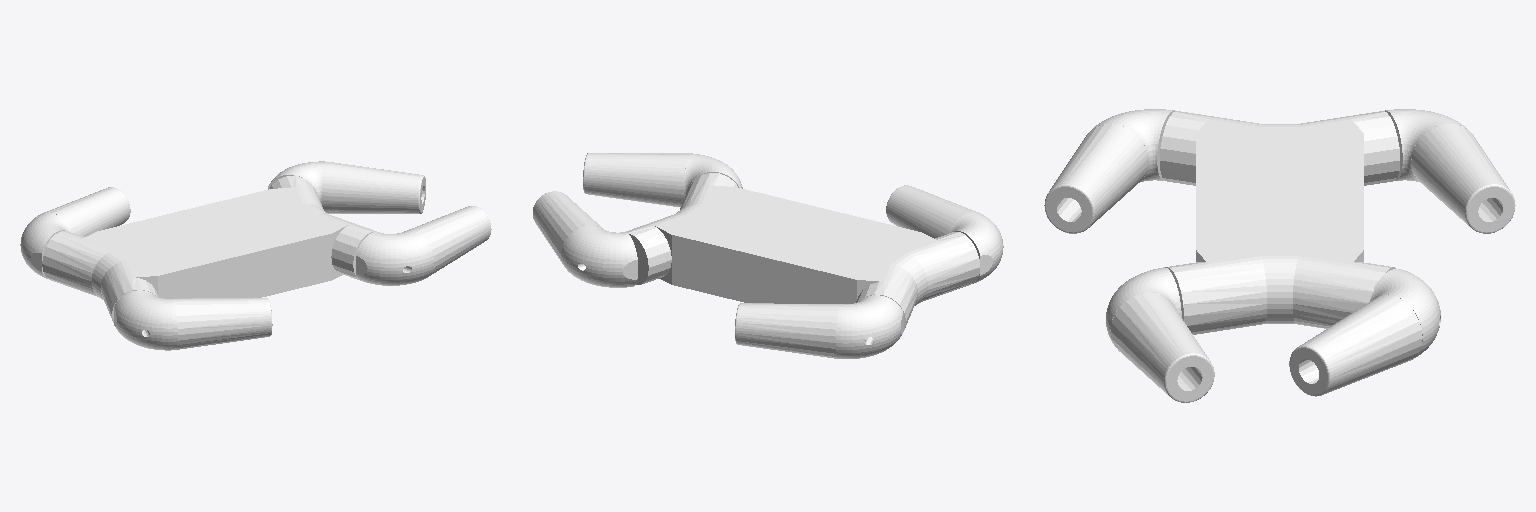
URDF robot description (20_degree):
<?xml version="1.0" encoding="utf-8"?>
<!-- This URDF was automatically created by SolidWorks to URDF Exporter! Originally created by [author] ([email redacted]) 
     Commit Version: 1.5.1-0-g916b5db  Build Version: 1.5.7152.31018
     For more information, please see http://wiki.ros.org/sw_urdf_exporter -->
<robot
  name="20_degree">
  <link
    name="base_link">
    <inertial>
      <origin
        xyz="0 4.343E-08 1.1094E-08"
        rpy="0 0 0" />
      <mass
        value="2.942" />
      <inertia
        ixx="0.0097782"
        ixy="1.2602E-07"
        ixz="-1.5417E-10"
        iyy="0.0454356"
        iyz="-3.0422E-18"
        izz="0.0528029" />
    </inertial>
    <visual>
      <origin
        xyz="0 0 0"
        rpy="0 0 0" />
      <geometry>
        <mesh
          filename="package://20_degree/meshes/base_link.STL" />
      </geometry>
      <material
        name="">
        <color
          rgba="1 1 1 1" />
      </material>
    </visual>
    <collision>
      <origin
        xyz="0 0 0"
        rpy="0 0 0" />
      <geometry>
        <mesh
          filename="package://20_degree/meshes/base_link.STL" />
      </geometry>
    </collision>
  </link>
  <link
    name="left_front_link">
    <inertial>
      <origin
        xyz="-9.7736E-08 0.056833 -0.03601"
        rpy="0 0 0" />
      <mass
        value="0.092" />
      <inertia
        ixx="0.0002604"
        ixy="7.0572E-10"
        ixz="7.1607E-10"
        iyy="0.0000526"
        iyz="2.27E-05"
        izz="0.0002575" />
    </inertial>
    <visual>
      <origin
        xyz="0 0 0"
        rpy="0 0 0" />
      <geometry>
        <mesh
          filename="package://20_degree/meshes/left_front_link.STL" />
      </geometry>
      <material
        name="">
        <color
          rgba="1 1 1 1" />
      </material>
    </visual>
    <collision>
      <origin
        xyz="0 0 0"
        rpy="0 0 0" />
      <geometry>
        <mesh
          filename="package://20_degree/meshes/left_front_link.STL" />
      </geometry>
    </collision>
  </link>
  <joint
    name="left_front_leg"
    type="continuous">
    <origin
      xyz="0.16523 0.096788 0"
      rpy="1.9199 1.5708 0" />
    <parent
      link="base_link" />
    <child
      link="left_front_link" />
    <axis
      xyz="0 0 -1" />
    <limit
      effort="5"
      velocity="487" />
  </joint>
  <link
    name="right_front_link">
    <inertial>
      <origin
        xyz="9.7736E-08 0.056833 0.03601"
        rpy="0 0 0" />
      <mass
        value="0.092" />
      <inertia
        ixx="0.0002604"
        ixy="-7.0572E-10"
        ixz="7.1607E-10"
        iyy="0.0000526"
        iyz="-2.27E-05"
        izz="0.0002575" />
    </inertial>
    <visual>
      <origin
        xyz="0 0 0"
        rpy="0 0 0" />
      <geometry>
        <mesh
          filename="package://20_degree/meshes/right_front_link.STL" />
      </geometry>
      <material
        name="">
        <color
          rgba="1 1 1 1" />
      </material>
    </visual>
    <collision>
      <origin
        xyz="0 0 0"
        rpy="0 0 0" />
      <geometry>
        <mesh
          filename="package://20_degree/meshes/right_front_link.STL" />
      </geometry>
    </collision>
  </link>
  <joint
    name="right_front_leg"
    type="continuous">
    <origin
      xyz="0.16523 -0.096788 0"
      rpy="1.2217 1.5708 0" />
    <parent
      link="base_link" />
    <child
      link="right_front_link" />
    <axis
      xyz="0 0 1" />
    <limit
      effort="5"
      velocity="487" />
  </joint>
  <link
    name="right_back_link">
    <inertial>
      <origin
        xyz="8.636E-08 0.056834 0.03601"
        rpy="0 0 0" />
      <mass
        value="0.092" />
      <inertia
        ixx="0.0002604"
        ixy="-4.9087E-10"
        ixz="5.9399E-10"
        iyy="0.0000526"
        iyz="-2.27E-05"
        izz="0.0002575" />
    </inertial>
    <visual>
      <origin
        xyz="0 0 0"
        rpy="0 0 0" />
      <geometry>
        <mesh
          filename="package://20_degree/meshes/right_back_link.STL" />
      </geometry>
      <material
        name="">
        <color
          rgba="1 1 1 1" />
      </material>
    </visual>
    <collision>
      <origin
        xyz="0 0 0"
        rpy="0 0 0" />
      <geometry>
        <mesh
          filename="package://20_degree/meshes/right_back_link.STL" />
      </geometry>
    </collision>
  </link>
  <joint
    name="right_back_leg"
    type="continuous">
    <origin
      xyz="-0.16523 -0.096788 0"
      rpy="1.9199 1.5708 0" />
    <parent
      link="base_link" />
    <child
      link="right_back_link" />
    <axis
      xyz="0 0 1" />
    <limit
      effort="5"
      velocity="487" />
  </joint>
  <link
    name="left_back_link">
    <inertial>
      <origin
        xyz="-8.636E-08 0.056834 -0.03601"
        rpy="0 0 0" />
      <mass
        value="0.092" />
      <inertia
        ixx="0.0002604"
        ixy="4.9087E-10"
        ixz="5.9399E-10"
        iyy="0.0000526"
        iyz="2.27E-05"
        izz="0.0002575" />
    </inertial>
    <visual>
      <origin
        xyz="0 0 0"
        rpy="0 0 0" />
      <geometry>
        <mesh
          filename="package://20_degree/meshes/left_back_link.STL" />
      </geometry>
      <material
        name="">
        <color
          rgba="1 1 1 1" />
      </material>
    </visual>
    <collision>
      <origin
        xyz="0 0 0"
        rpy="0 0 0" />
      <geometry>
        <mesh
          filename="package://20_degree/meshes/left_back_link.STL" />
      </geometry>
    </collision>
  </link>
  <joint
    name="left_back_leg"
    type="continuous">
    <origin
      xyz="-0.16523 0.096788 0"
      rpy="1.2217 1.5708 0" />
    <parent
      link="base_link" />
    <child
      link="left_back_link" />
    <axis
      xyz="0 0 -1" />
    <limit
      effort="5"
      velocity="487" />
  </joint>
</robot>

--- Render facts (derived) ---
Views: 3 orthographic renders of the robot side by side, from view 1: azimuth 30°, elevation 25°; view 2: azimuth 150°, elevation 25°; view 3: azimuth 270°, elevation 25°.
Model 20_degree with 5 links and 4 joints (4 continuous), rooted at base_link, posed every joint at zero.
Links seen in each view (by area): view 1: base_link, right_back_link, right_front_link, left_front_link, left_back_link; view 2: base_link, left_back_link, left_front_link, right_front_link, right_back_link; view 3: base_link, left_front_link, right_back_link, left_back_link, right_front_link.
Link boxes in pixels (x1,y1,x2,y2): base_link: [42, 175, 376, 322]; right_back_link: [114, 290, 272, 350]; right_front_link: [356, 206, 491, 285]; left_front_link: [268, 161, 425, 213]; left_back_link: [20, 187, 130, 278]; base_link: [626, 173, 979, 329]; left_back_link: [735, 295, 903, 358]; left_front_link: [533, 191, 637, 287]; right_front_link: [583, 153, 742, 207]; right_back_link: [886, 185, 1003, 283]; base_link: [1160, 111, 1399, 334]; left_front_link: [1289, 269, 1440, 396]; right_back_link: [1044, 109, 1174, 233]; left_back_link: [1385, 109, 1515, 233]; right_front_link: [1106, 267, 1214, 402].
Size in the robot's own frame: 0.5354 by 0.4214 by 0.064 metres.
Meshes: 5 distinct files referenced, 5 mesh visuals loaded (5 binary STL).